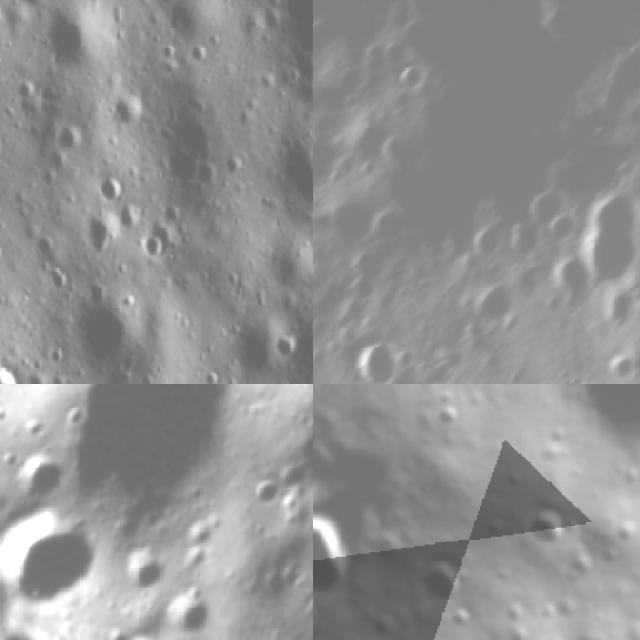crater: (56, 384, 257, 525), (0, 502, 113, 628), (313, 486, 376, 614), (576, 193, 640, 287), (74, 301, 149, 372), (510, 492, 584, 560), (1, 442, 72, 511), (411, 551, 482, 617), (462, 270, 528, 336), (38, 8, 102, 76), (276, 0, 313, 108), (117, 542, 179, 605), (343, 332, 411, 384), (324, 198, 382, 258), (157, 583, 218, 640), (268, 136, 313, 209), (544, 258, 596, 315), (80, 210, 118, 264), (242, 472, 282, 520), (423, 398, 463, 437), (346, 270, 383, 310), (392, 60, 431, 94), (600, 352, 640, 384), (135, 234, 171, 268), (0, 0, 51, 23), (116, 624, 183, 640), (271, 329, 300, 364), (98, 180, 125, 207), (0, 363, 19, 384)
